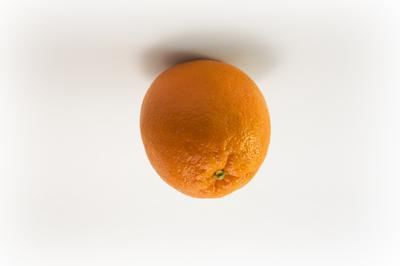orange: (0, 0, 400, 266)
